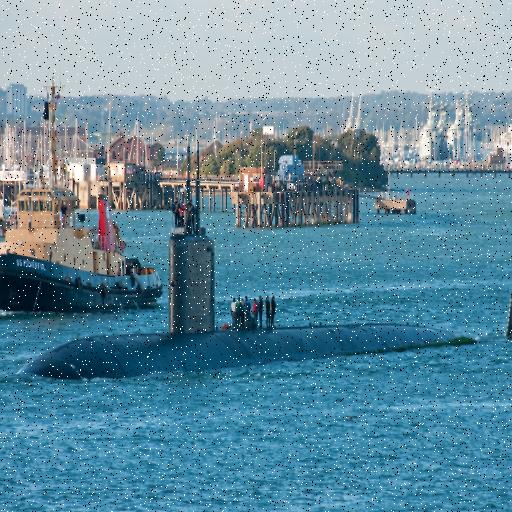submarine: (18, 211, 512, 384)
